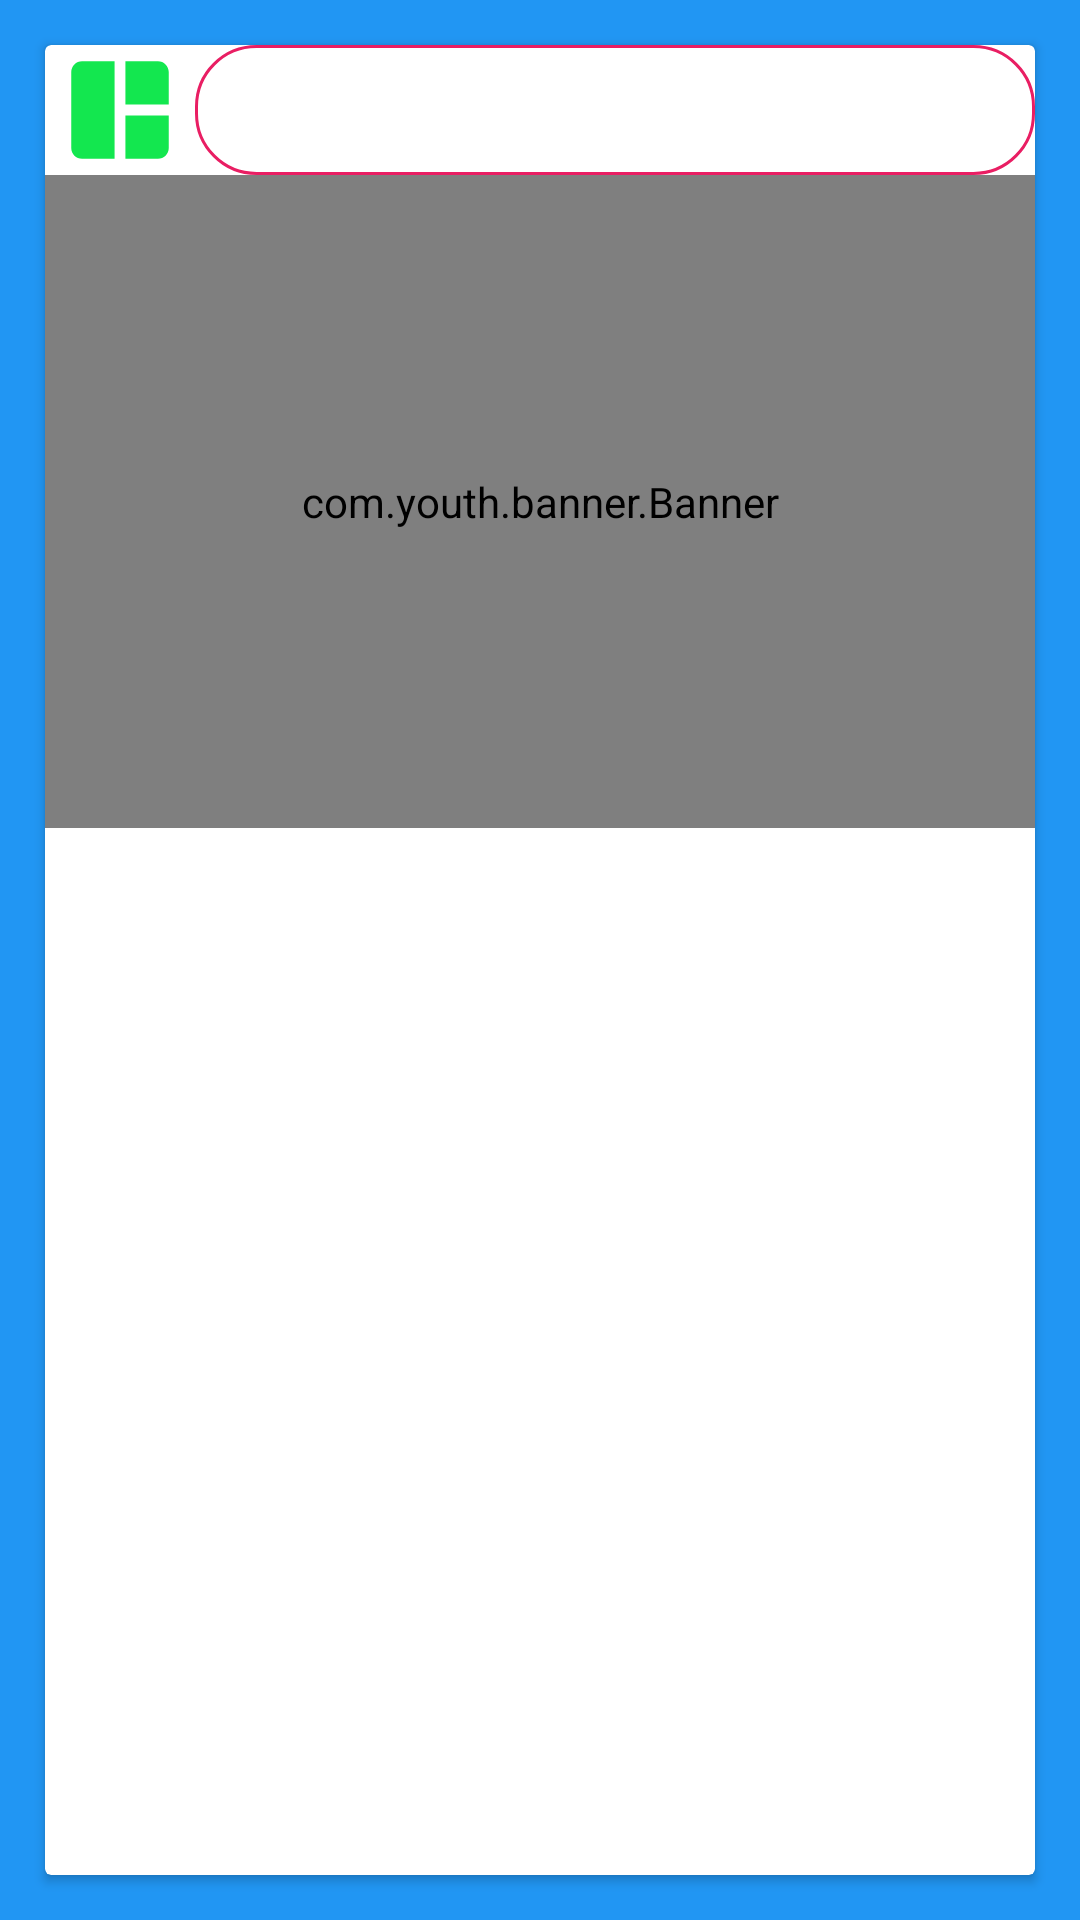

Point at icon controls on the screen. Image size 1080w x 1920h, points as [x,y].
auto awesome mosaic wx: [120,110]
